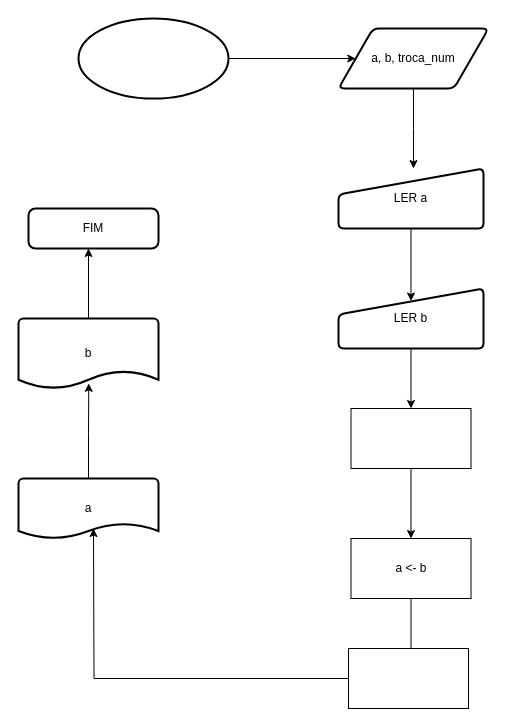
Some shapes in this 506 by 726 pixel diagram are drawn without their labels. Here are the shapes that lost their labels. From the top down, the centre of each, then its label:
At point 153,58: "INÍCIO".
At point 410,438: "troca_num<- a".
At point 408,678: "b <- troca_num".
